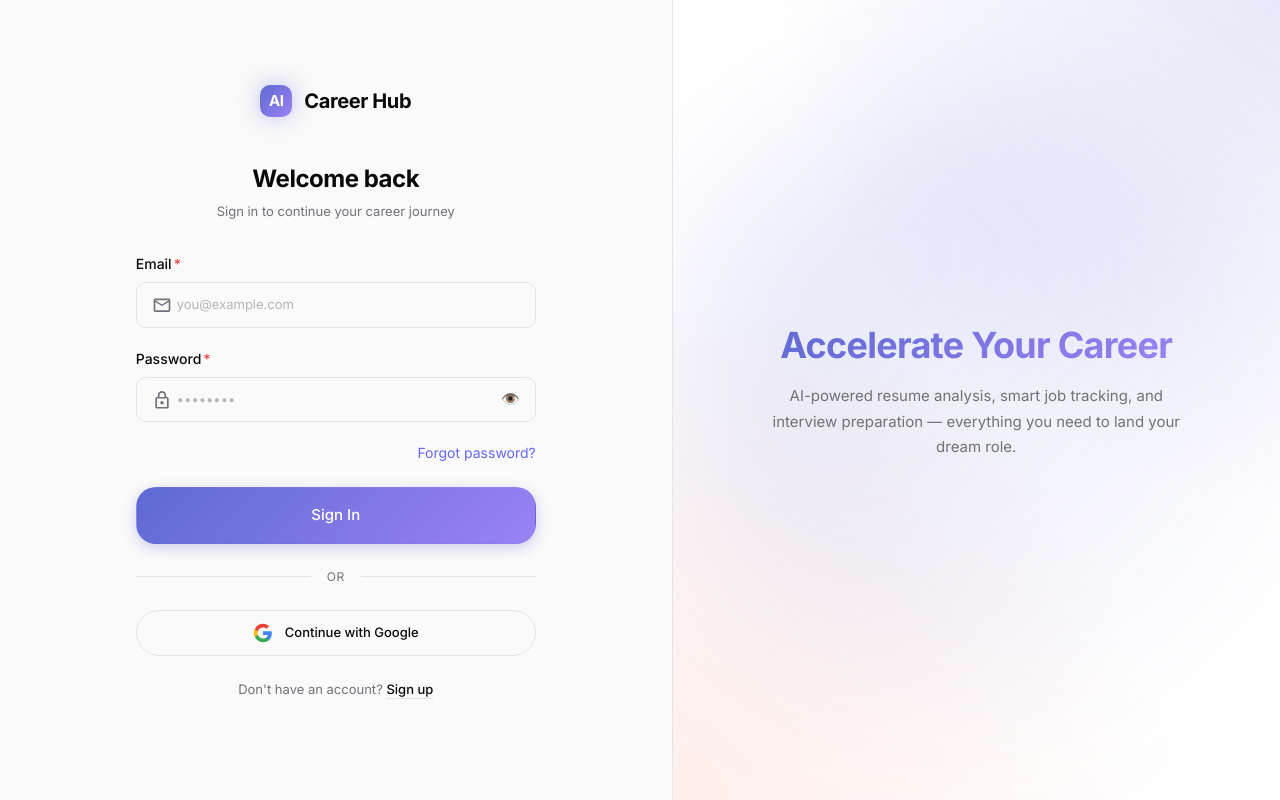
Test: LoginPage › shows error for invalid email format
Type "invalid-email" into the field labelled "Email*" at coordinates (336, 305), box [136,282,536,328]
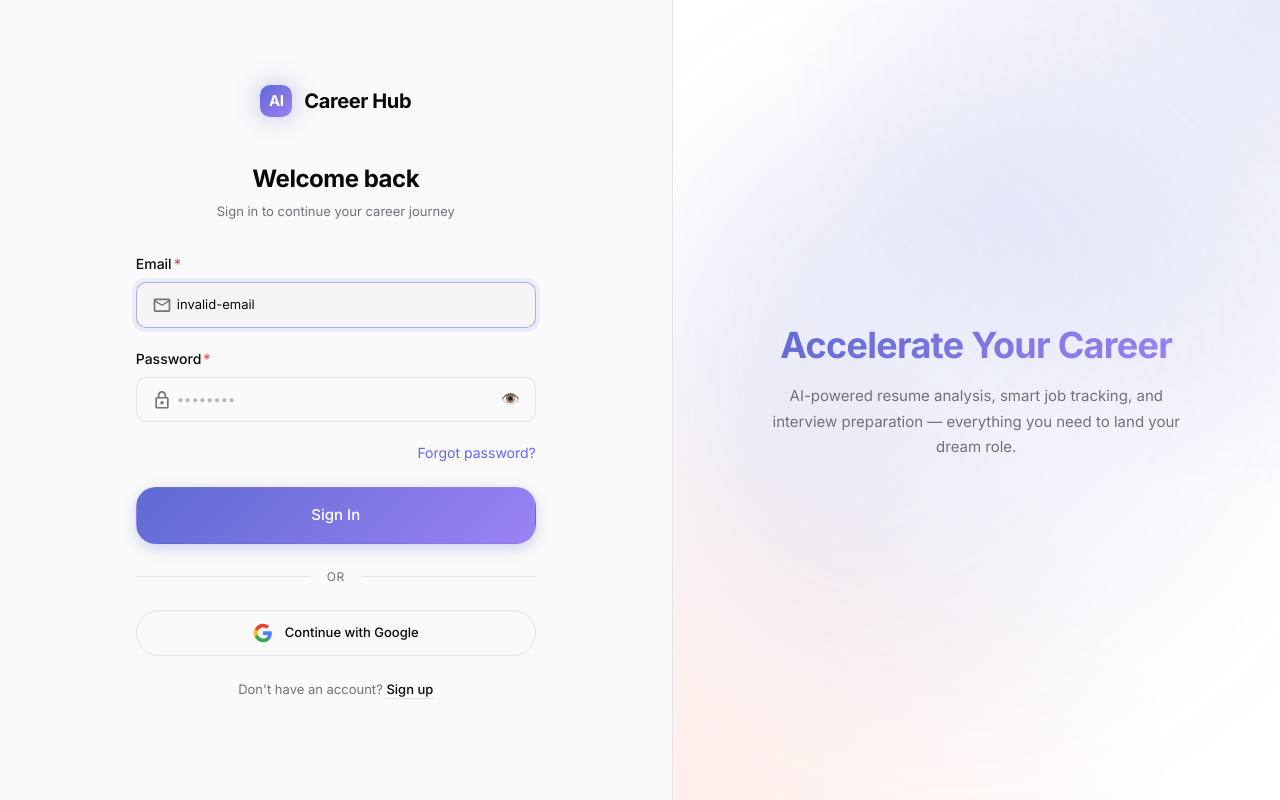
Press Tab
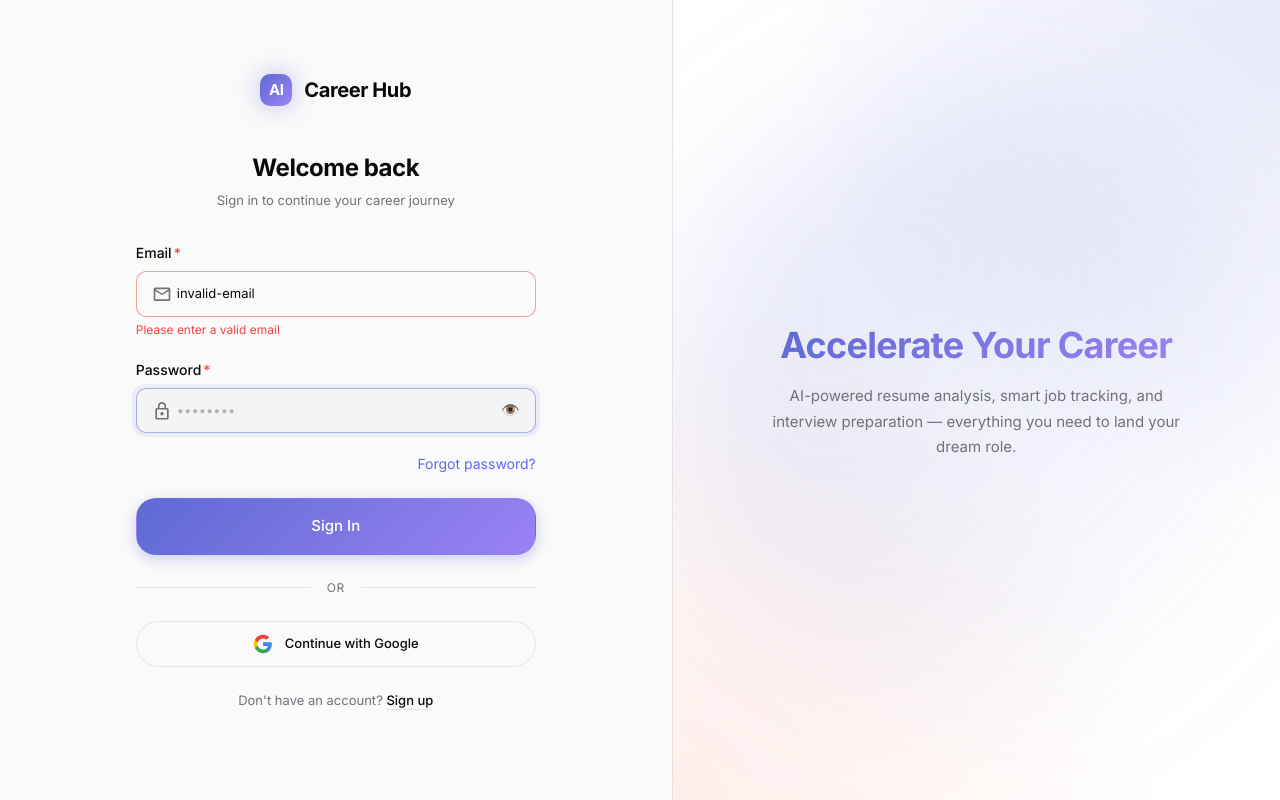
Result: the text "Please enter a valid email" is shown at [136,322,280,337]
